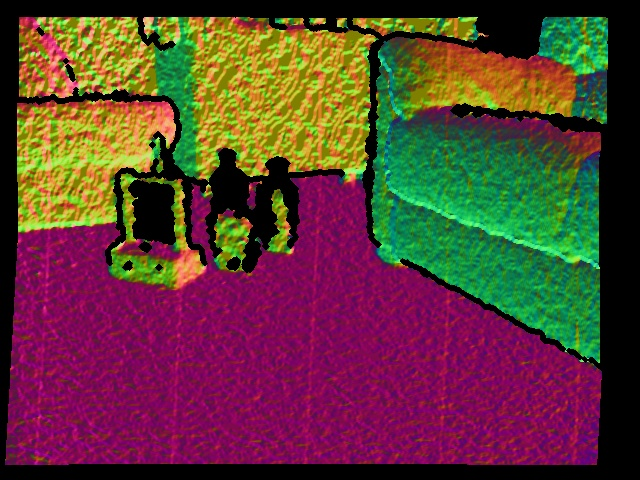station: (106, 170, 213, 289)
